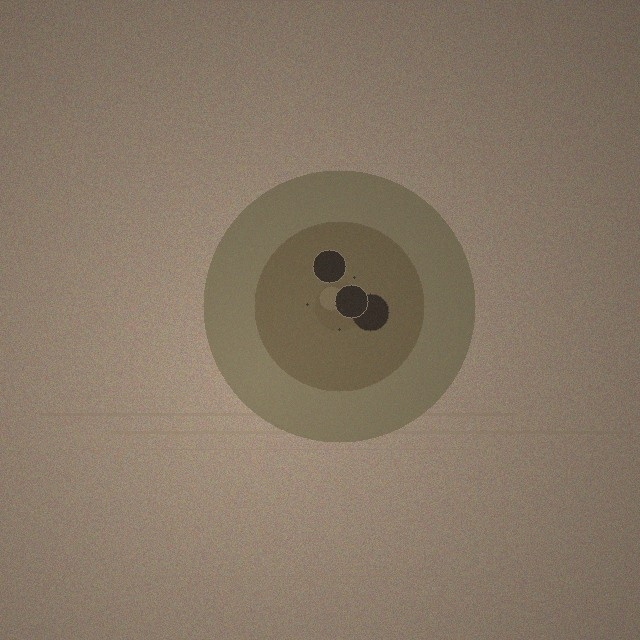shrinkage: (203, 170, 475, 442)
